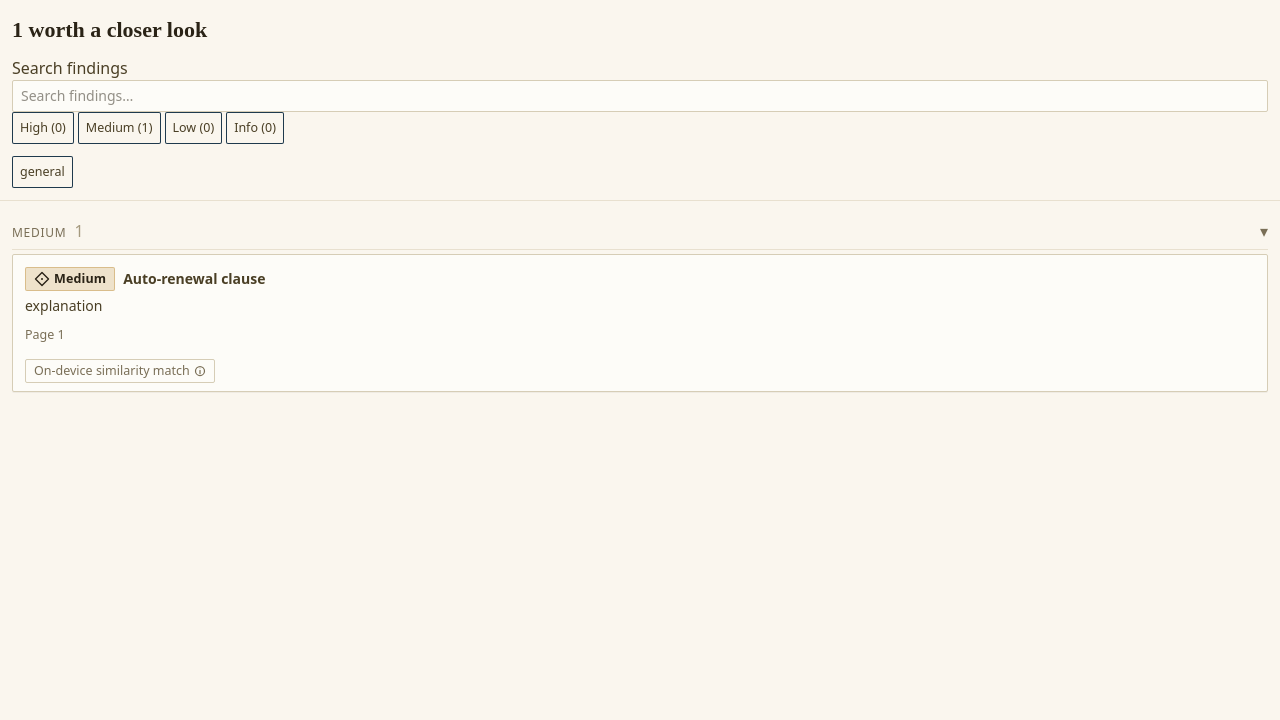
FindingsPanel — hybrid-feedback wiring (Wave 29-C) › renders the audit-entry entryHash (8 chars) when a matching llm-classify entry exists
Click the button with aria-label "identified by on-device similarity match": (120, 370) [25,358,215,382]
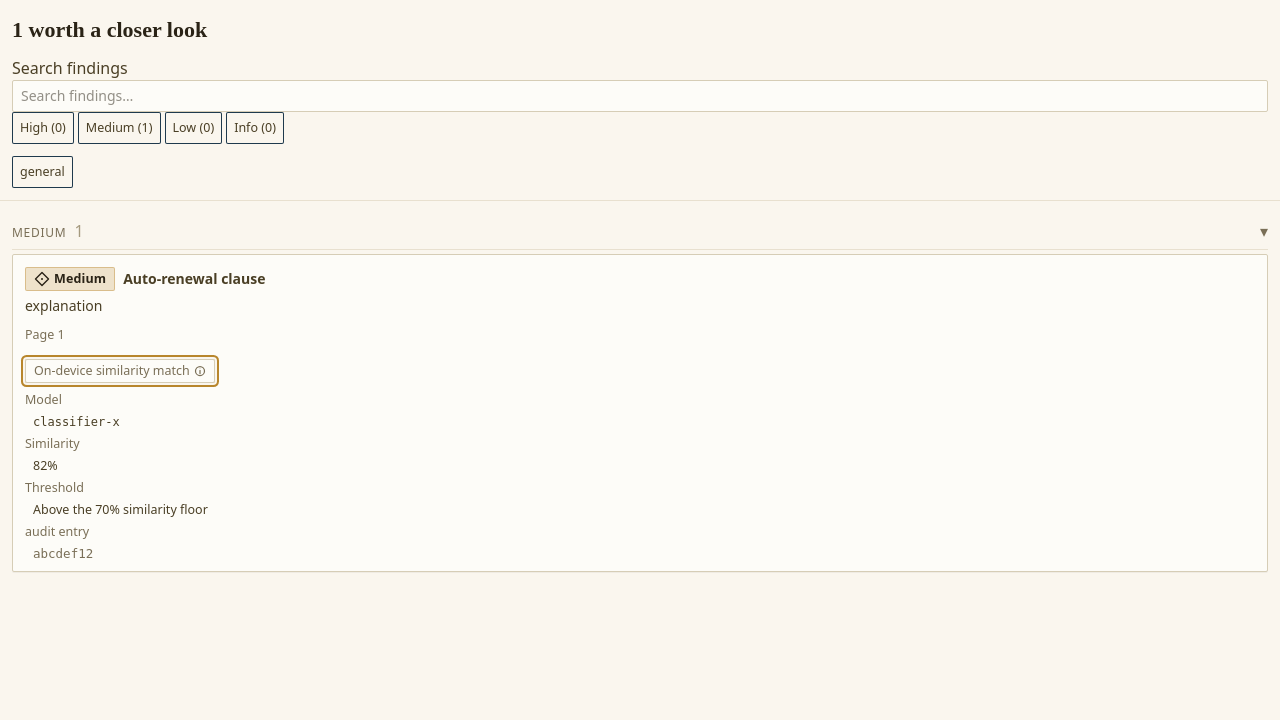
Check: the text "abcdef12" is shown, box [33,546,93,560]
